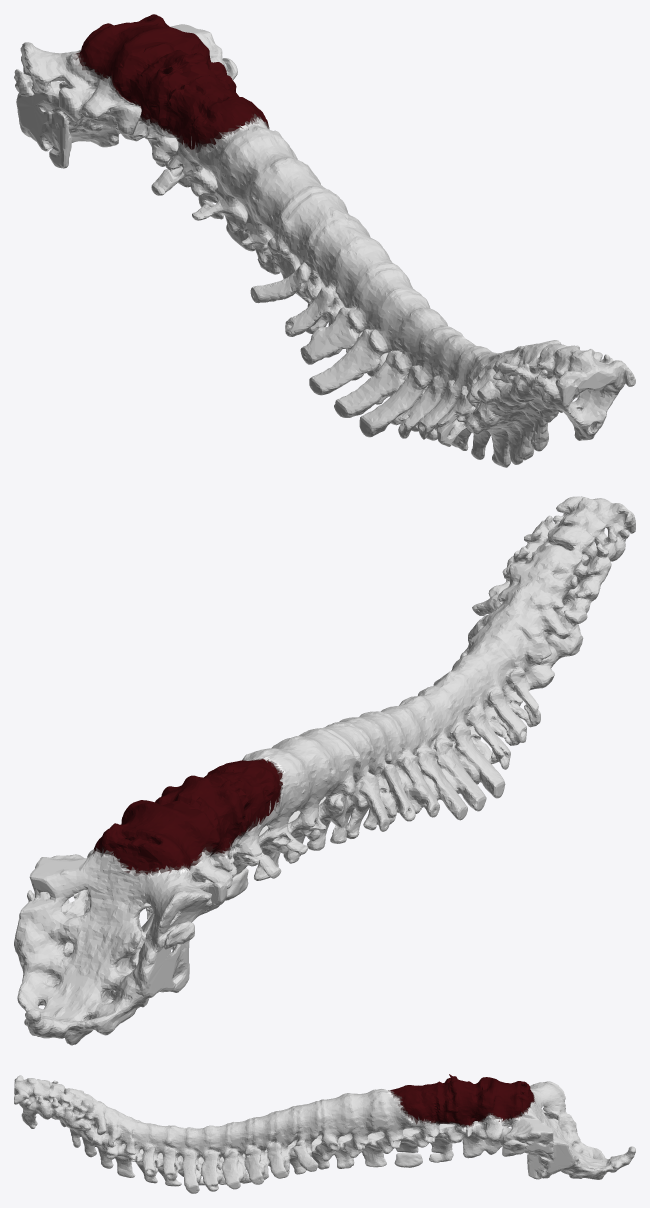
The model's file is DegeneratedDisc.obj.
3 views of the same model, one above another, from view 1: azimuth 30°, elevation 25°; view 2: azimuth 150°, elevation 25°; view 3: azimuth 270°, elevation 25° (orthographic). The views are drawn at different scales.
Visible parts, largest first — view 1: obj1; view 2: obj1; view 3: obj1.
Part boxes in pixels (x1,y1,x2,y2): obj1: (14,14,635,467); obj1: (14,496,635,1045); obj1: (14,1074,635,1193).
Size of the model in its own units: 44.14 by 45.49 by 243.
